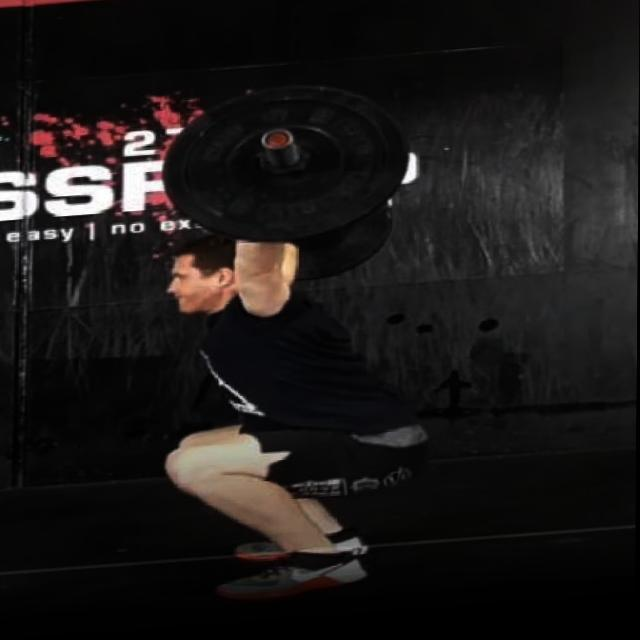barbell: (159, 80, 413, 259)
